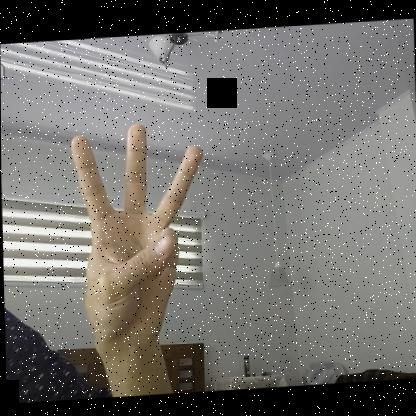W: (68, 122, 210, 354)
